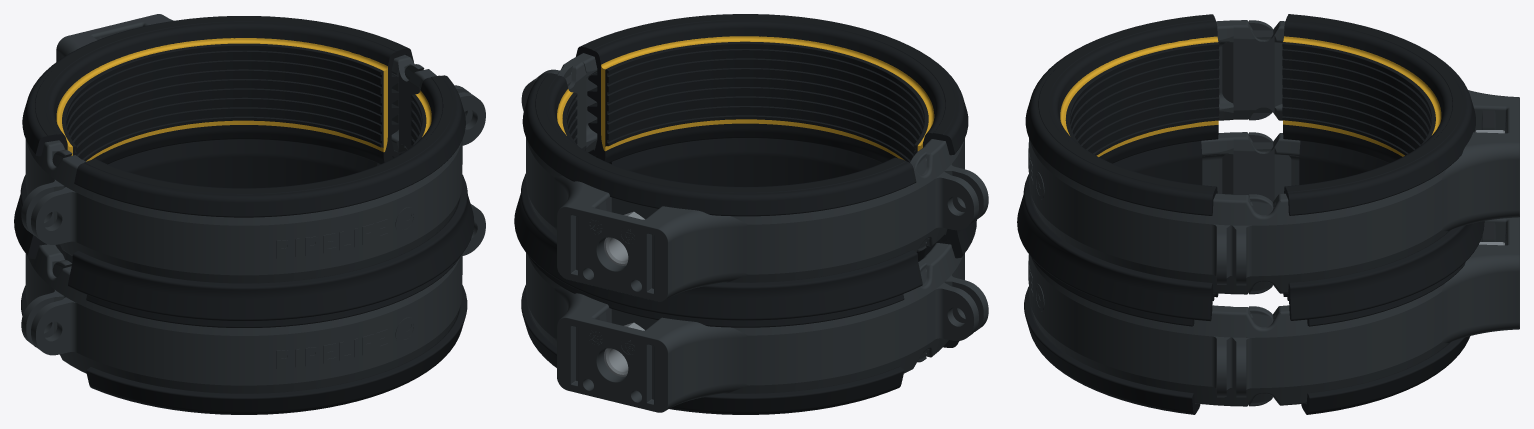
The model's file is clamp.glb.
3 views of the same model, side by side, from view 1: azimuth 30°, elevation 25°; view 2: azimuth 150°, elevation 25°; view 3: azimuth 270°, elevation 25° (orthographic).
Parts seen in each view (by area): view 1: Revolve1_1_, Fillet12_2, Fillet12, Revolve3_2, Revolve1_1__2, Revolve1_2__2, Revolve1_2_, Silent_clamp_wall_part_110_V16_2, Revolve2_2, Silent_clamp_wall_part_110_V16, Revolve3; view 2: Silent_clamp_wall_part_110_V16_2, Silent_clamp_wall_part_110_V16, Revolve1_1__2, Revolve3, Revolve1_1_, Revolve1_2__2, Revolve1_2_, Revolve2, Fillet12_2, Fillet12, EndChamfer, EndChamfer_2 (+1 smaller); view 3: Silent_clamp_wall_part_110_V16_2, Silent_clamp_wall_part_110_V16, Revolve1_1_, Revolve1_1__2, Fillet12, Fillet12_2, Revolve3, Revolve3_2, Revolve1_2__2, Revolve1_2_, Revolve2_2, Revolve2.
Boxes of the visible parts, bbox=[...] form: Revolve1_1_: bbox=[68, 75, 474, 320]; Fillet12_2: bbox=[31, 64, 485, 283]; Fillet12: bbox=[31, 204, 485, 393]; Revolve3_2: bbox=[62, 43, 383, 161]; Revolve1_1__2: bbox=[14, 16, 413, 257]; Revolve1_2__2: bbox=[86, 256, 467, 414]; Revolve1_2_: bbox=[21, 139, 399, 347]; Silent_clamp_wall_part_110_V16_2: bbox=[21, 14, 472, 254]; Revolve2_2: bbox=[56, 38, 387, 161]; Silent_clamp_wall_part_110_V16: bbox=[21, 244, 71, 364]; Revolve3: bbox=[411, 94, 426, 146]; Silent_clamp_wall_part_110_V16_2: bbox=[521, 59, 978, 301]; Silent_clamp_wall_part_110_V16: bbox=[526, 253, 978, 412]; Revolve1_1__2: bbox=[514, 73, 922, 320]; Revolve3: bbox=[605, 41, 928, 162]; Revolve1_1_: bbox=[576, 14, 976, 256]; Revolve1_2__2: bbox=[589, 138, 962, 347]; Revolve1_2_: bbox=[521, 255, 904, 414]; Revolve2: bbox=[601, 36, 934, 160]; Fillet12_2: bbox=[537, 53, 988, 251]; Fillet12: bbox=[917, 243, 988, 362]; EndChamfer: bbox=[604, 322, 644, 376]; EndChamfer_2: bbox=[604, 211, 644, 265]; Silent_clamp_wall_part_110_V16_2: bbox=[1231, 20, 1519, 294]; Silent_clamp_wall_part_110_V16: bbox=[1231, 132, 1519, 406]; Revolve1_1_: bbox=[1017, 14, 1218, 321]; Revolve1_1__2: bbox=[1283, 14, 1484, 320]; Fillet12: bbox=[1028, 132, 1273, 406]; Fillet12_2: bbox=[1028, 20, 1273, 294]; Revolve3: bbox=[1065, 42, 1219, 155]; Revolve3_2: bbox=[1282, 42, 1435, 155]; Revolve1_2__2: bbox=[1024, 141, 1202, 414]; Revolve1_2_: bbox=[1299, 140, 1470, 414]; Revolve2_2: bbox=[1283, 36, 1441, 156]; Revolve2: bbox=[1060, 36, 1218, 156].
Size of the model in its own units: 16.2 by 7.56 by 15.43.
